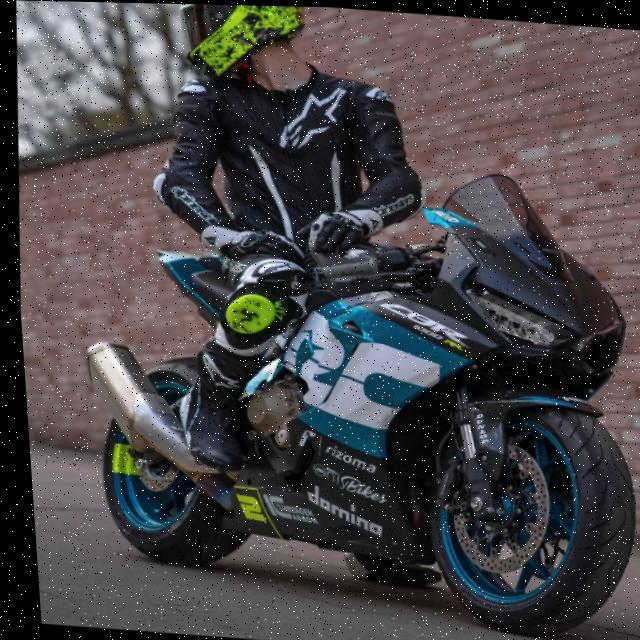helmet: (167, 3, 320, 91)
